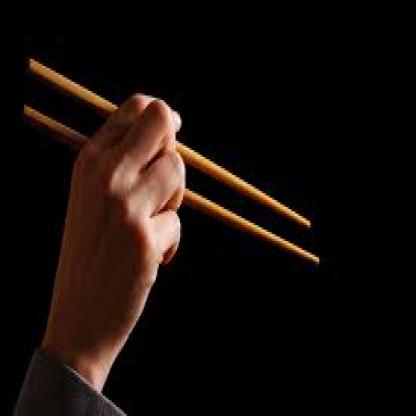chopstick: (27, 57, 310, 225), (23, 104, 319, 263)
